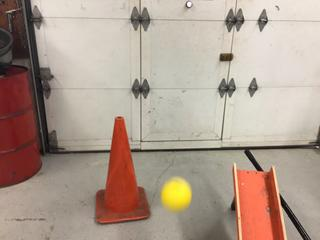power_cell: (159, 176, 195, 212)
